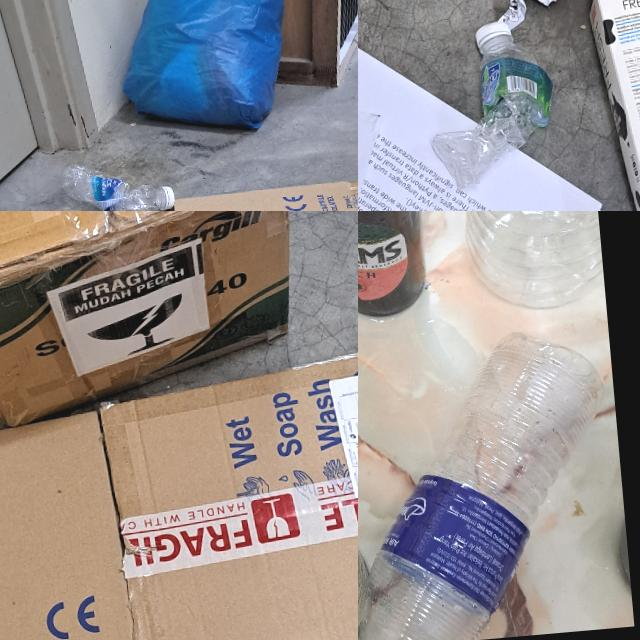caixinha: (584, 0, 640, 211)
garrafa plástica: (358, 326, 623, 640), (422, 31, 562, 190), (445, 211, 605, 314), (59, 153, 167, 211)
papel: (358, 4, 609, 211), (495, 0, 572, 32)
papelão: (0, 350, 358, 640), (0, 211, 307, 434)
sacola plástica: (109, 0, 294, 140)
tampa plástica: (474, 21, 514, 50), (159, 185, 175, 210)
